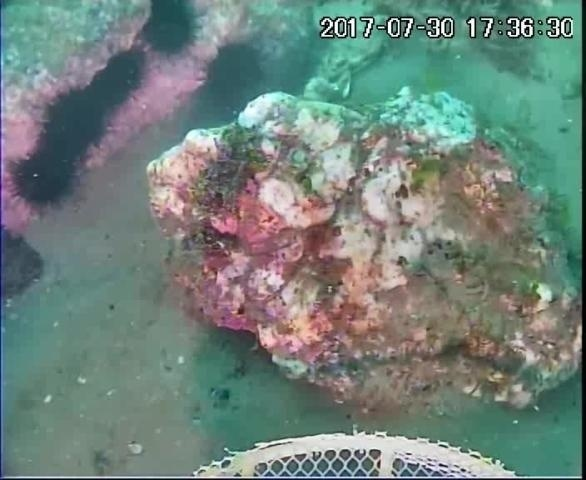echinus: (35, 84, 112, 162), (6, 145, 83, 215), (199, 37, 271, 108), (84, 45, 151, 112), (137, 1, 204, 61)
